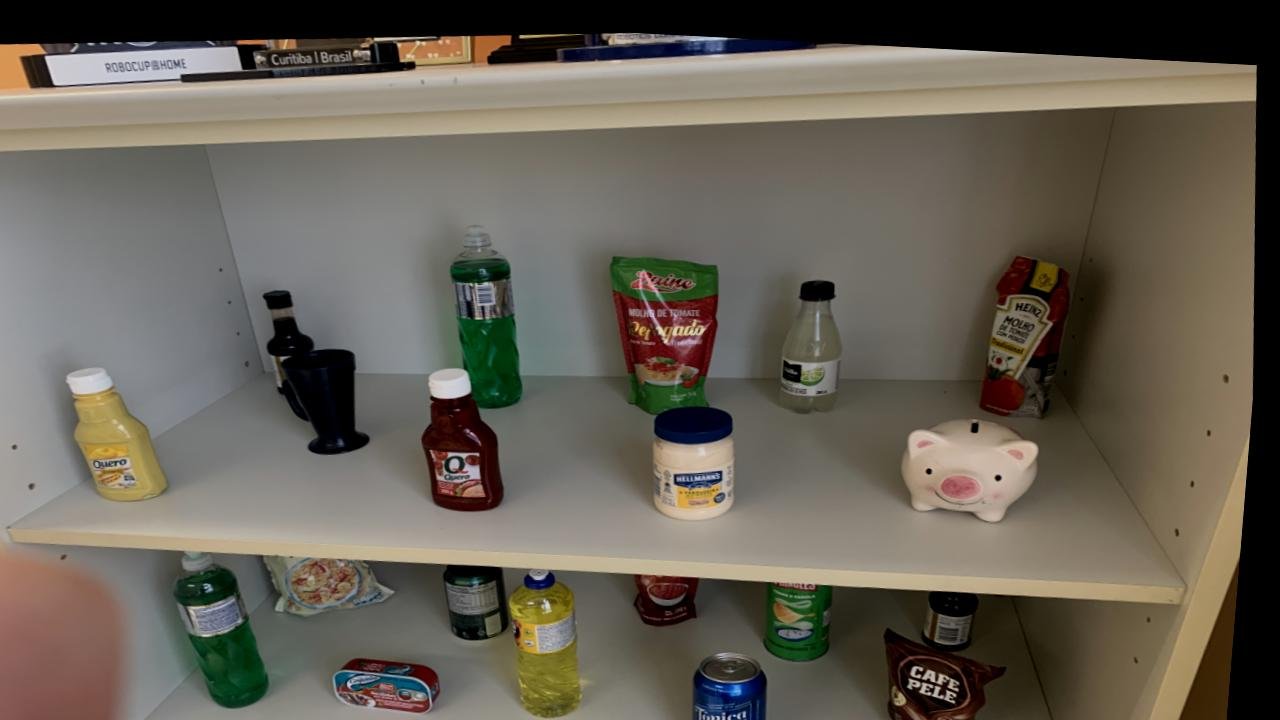Coffee-Pantry_Items: (894, 618, 1014, 720)
Detergent-Cleanup_Items: (182, 550, 280, 705), (453, 219, 527, 403), (518, 562, 591, 711)
English_Sauce-Pantry_Items: (268, 287, 319, 390), (931, 580, 986, 639)
Flakes-Snacks: (272, 551, 403, 613)
Guarana_Can-Drinks: (453, 559, 518, 634)
Ketchup-Pantry_Items: (429, 362, 510, 505)
Mayonnaise-Pantry_Items: (660, 398, 743, 512)
Mustard-Pantry_Items: (73, 365, 174, 498)
Pig_Safe-Miscellaneous: (908, 407, 1046, 510)
Pringles-Snacks: (774, 572, 841, 651)
Soda-Drinks: (785, 269, 847, 403)
Tomato_Sauce-Pantry_Items: (614, 249, 722, 406), (985, 245, 1072, 406), (643, 566, 708, 617)
Tonic-Drinks: (704, 643, 777, 720)
Tuna_Can-Pantry_Items: (343, 654, 451, 709)
